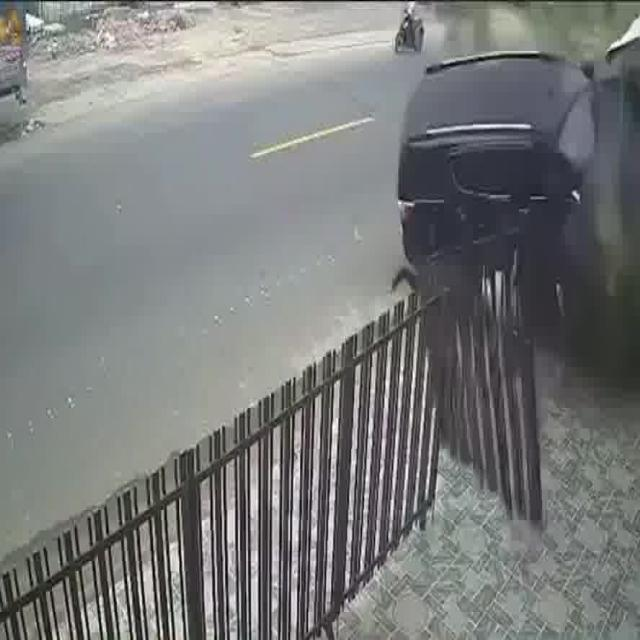single accident: (388, 38, 640, 540)
